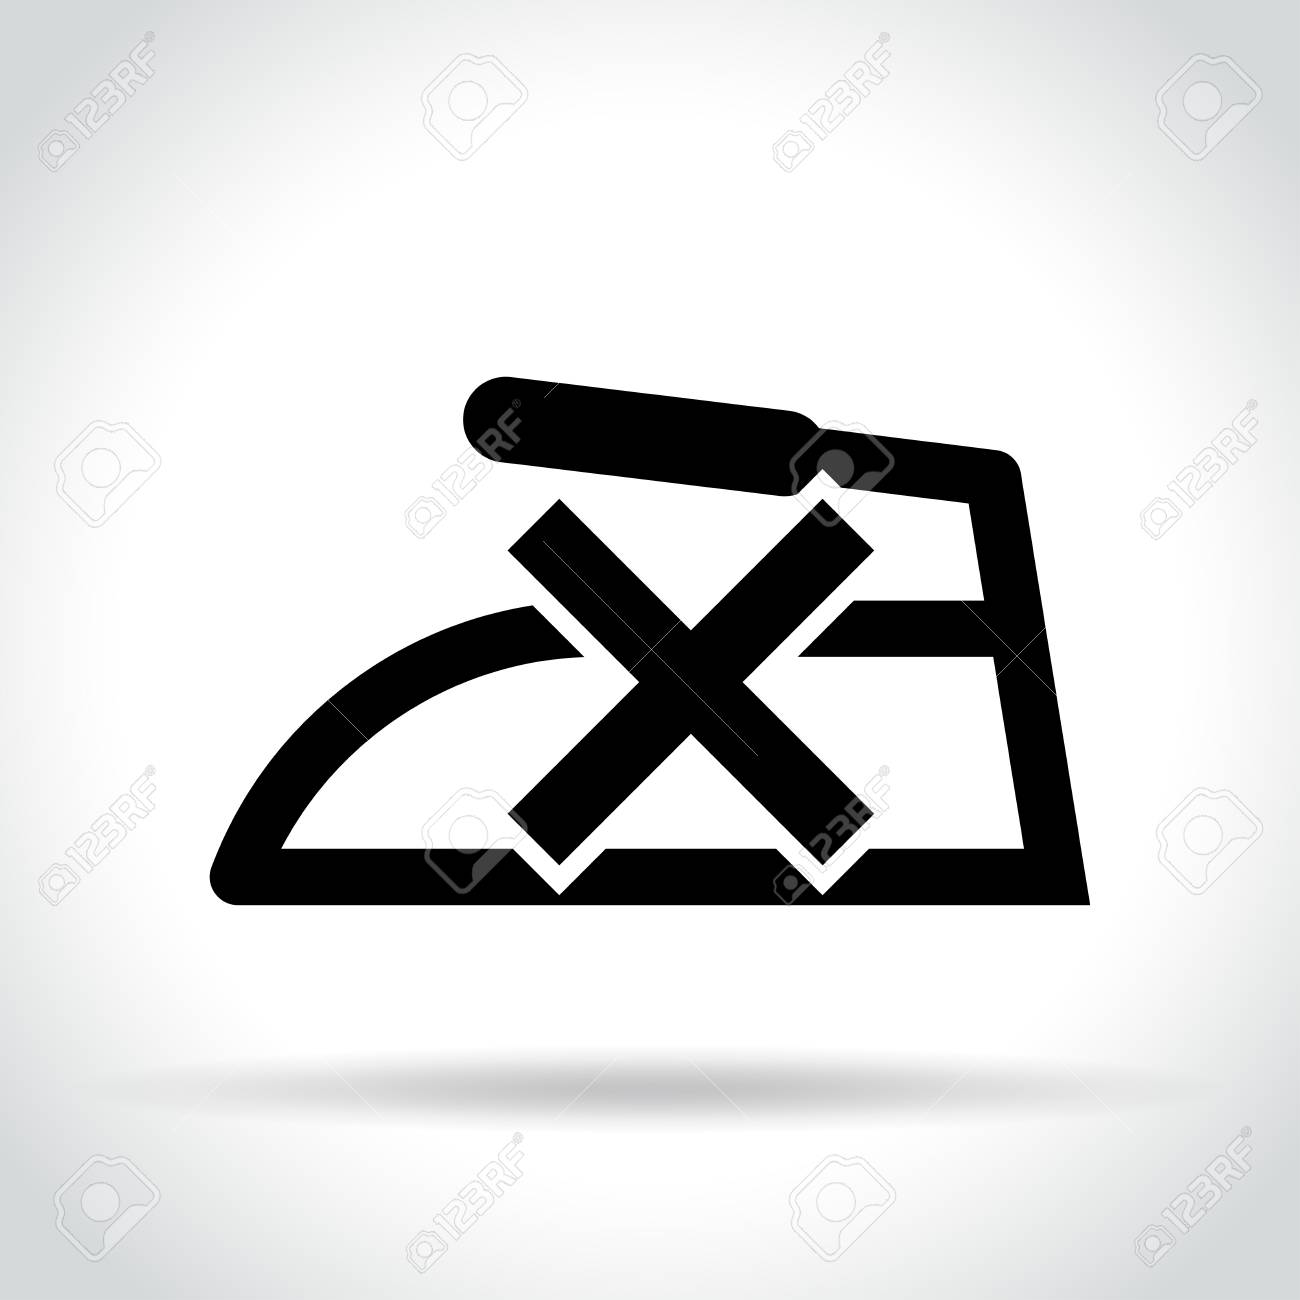do_not_iron: (212, 374, 1099, 908)
